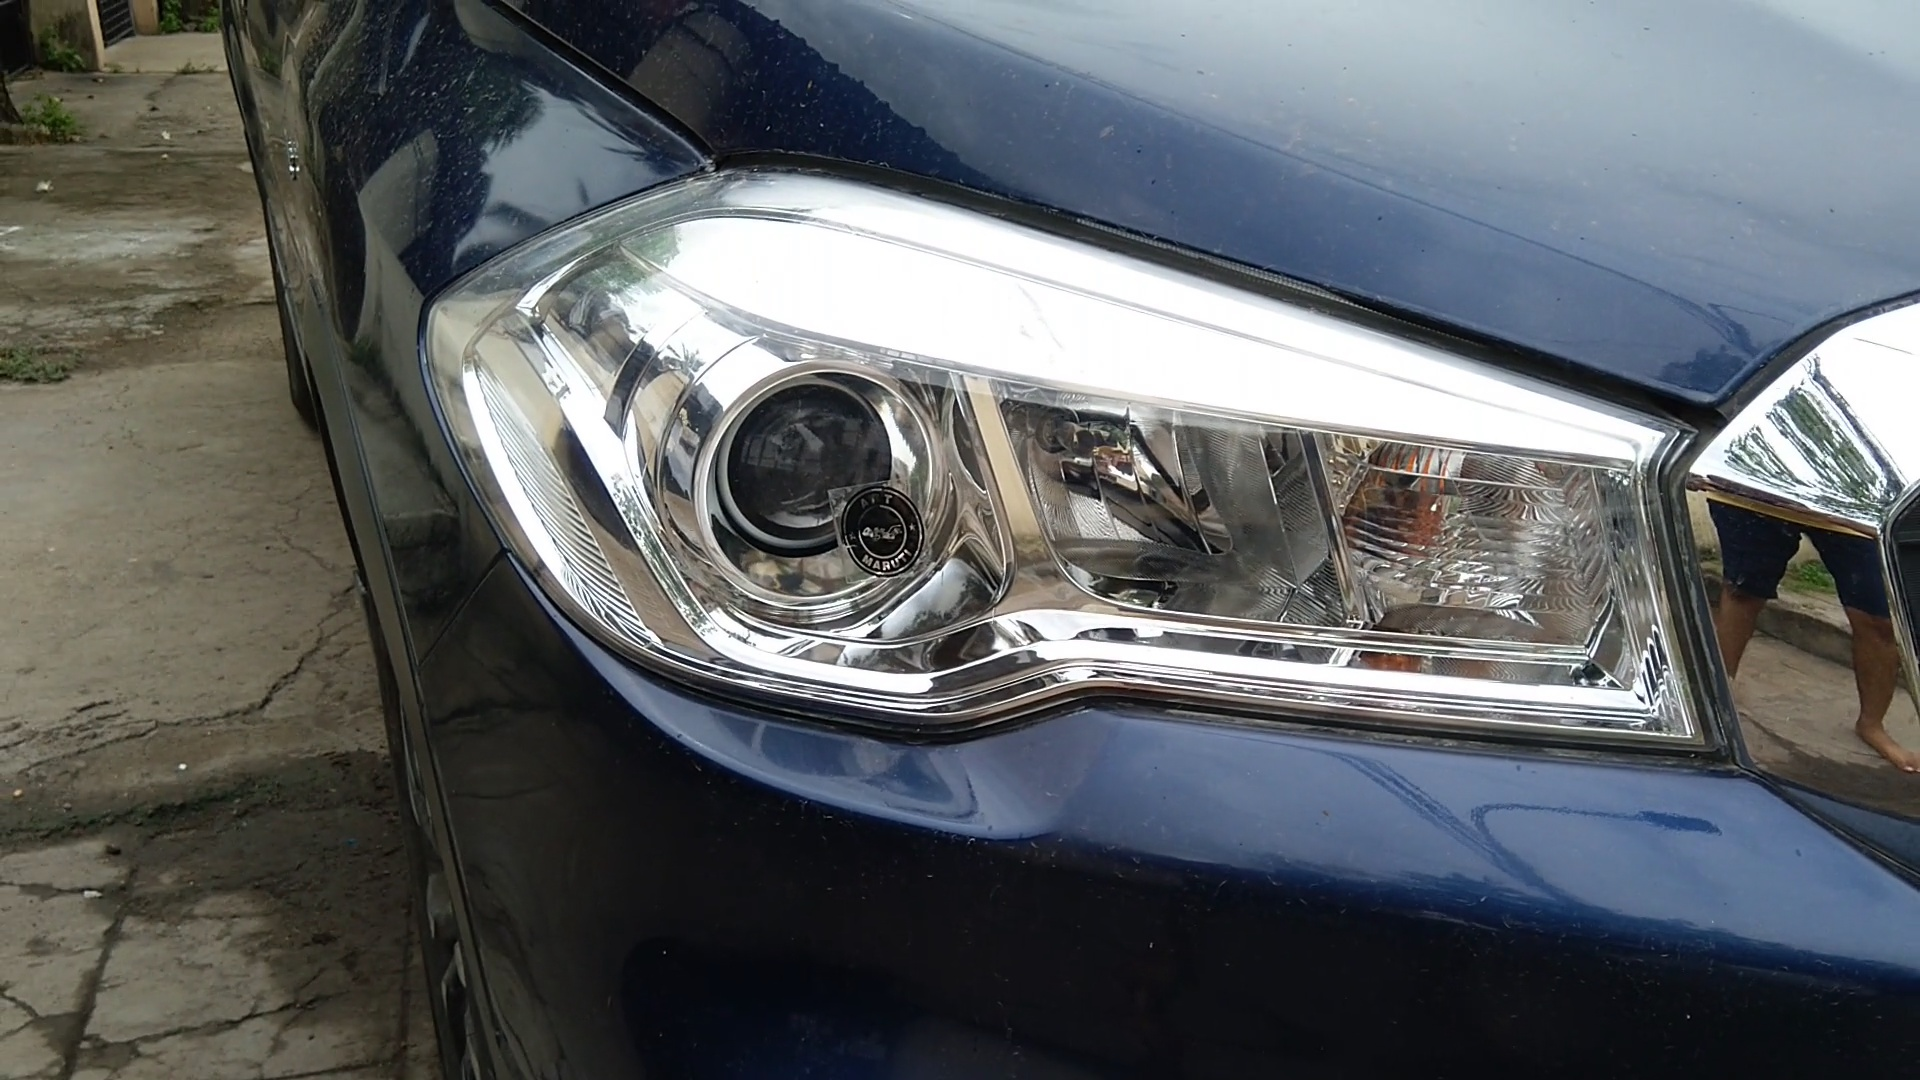headlamp: (409, 131, 1704, 762)
